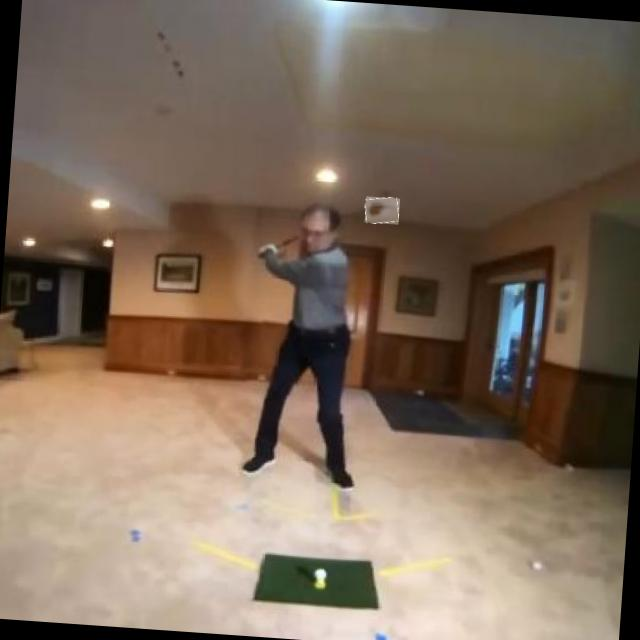club head: (364, 196, 400, 224)
